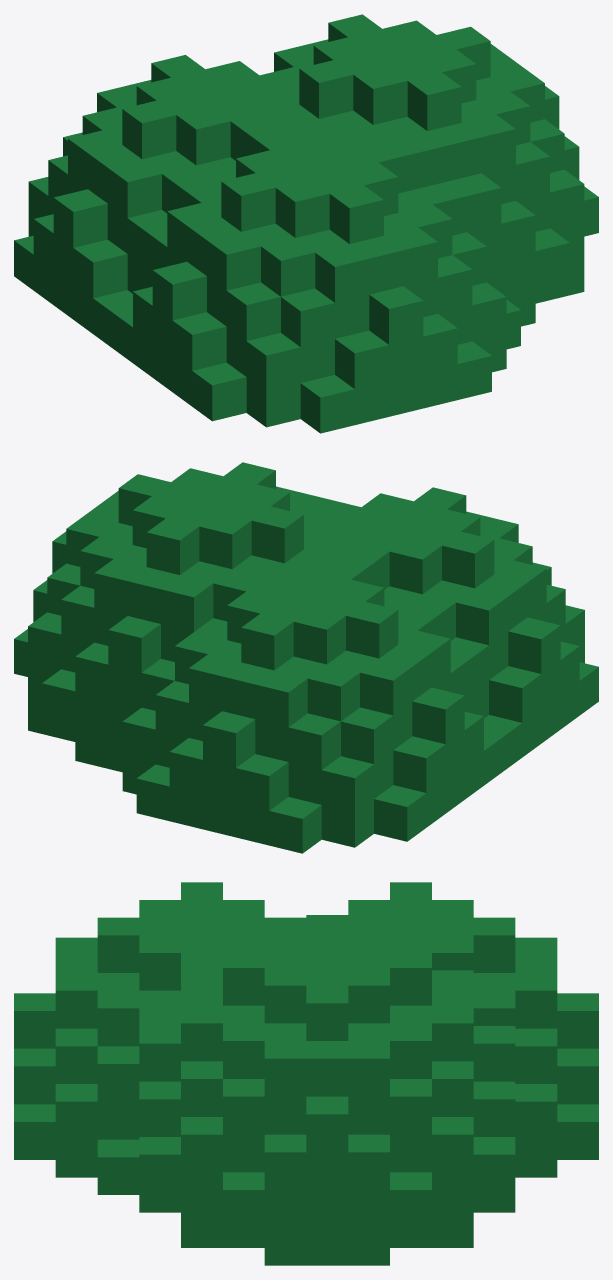
The model's file is arbusto_pequeño_00.fbx.
3 views of the same model, one above another, from view 1: azimuth 30°, elevation 25°; view 2: azimuth 150°, elevation 25°; view 3: azimuth 270°, elevation 25° (orthographic). The views are drawn at different scales.
Visible parts, largest first — view 1: arbusto_Pequeño00; view 2: arbusto_Pequeño00; view 3: arbusto_Pequeño00.
Part boxes in pixels (bbox=[...]): arbusto_Pequeño00: bbox=[14, 14, 598, 433]; arbusto_Pequeño00: bbox=[14, 462, 598, 853]; arbusto_Pequeño00: bbox=[14, 882, 598, 1265].
Size of the model in its own units: 130 by 60 by 140.
1 material, 1 textured.
